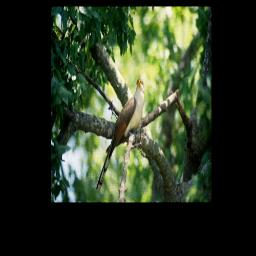Cuckoo: (95, 74, 146, 194)
